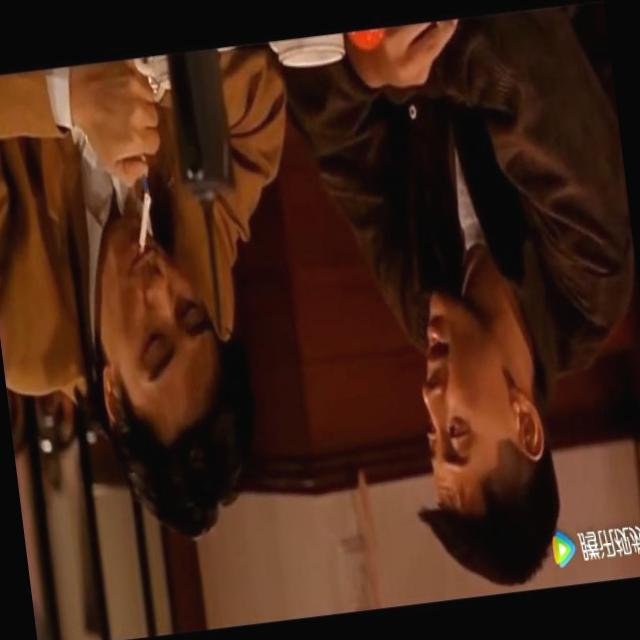cigarette: (125, 190, 161, 261)
